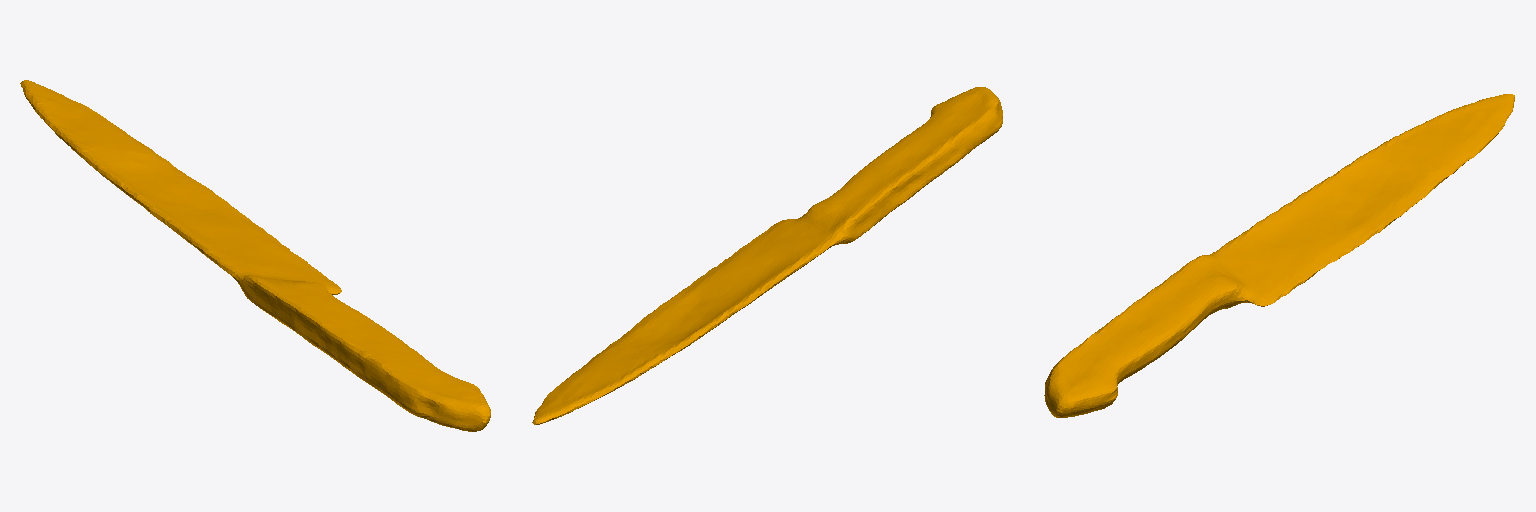
The robot description file, URDF, robot "knife":
<?xml version="1.0" ?>
<!-- auto-generated by gen_object_urdf.py (TactiDex import) -->
<robot name="knife">
  <link name="bottom">
    <inertial>
      <origin rpy="0 0 0" xyz="0.00017959195 -0.017486965 0.00030688081"/>
      <mass value="0.2"/>
      <inertia ixx="0.0011010834" ixy="-2.580447e-05" ixz="2.3572957e-06"
               iyy="1.4831648e-05" iyz="1.2199792e-05" izz="0.0011127365"/>
    </inertial>
    <visual>
      <origin rpy="0 0 0" xyz="0 0 0"/>
      <geometry><mesh filename="knife_visual.obj" scale="1 1 1"/></geometry>
    </visual>
      <collision>
        <origin rpy="0 0 0" xyz="0 0 0"/>
        <geometry><mesh filename="collision_parts/part_000.obj" scale="1 1 1"/></geometry>
      </collision>
      <collision>
        <origin rpy="0 0 0" xyz="0 0 0"/>
        <geometry><mesh filename="collision_parts/part_001.obj" scale="1 1 1"/></geometry>
      </collision>
  </link>
</robot>

--- What the picture shows (computed from the rendered views, not written in the file) ---
3 views of the same robot in one strip: view 1: azimuth 30°, elevation 25°; view 2: azimuth 150°, elevation 25°; view 3: azimuth 330°, elevation 25° (orthographic).
Robot: knife — 1 links, 0 joints (none); root link bottom; default pose: every joint at zero.
Links seen in each view (by area): view 1: bottom; view 2: bottom; view 3: bottom.
Boxes of the visible links, x1,y1,x2,y2 form: bottom: (20,80,490,431); bottom: (532,87,1002,424); bottom: (1044,94,1514,417).
Size in the robot's own frame: 0.0357 by 0.3116 by 0.0134 metres.
1 mesh visuals loaded from 1 distinct referenced files (1 OBJ).
